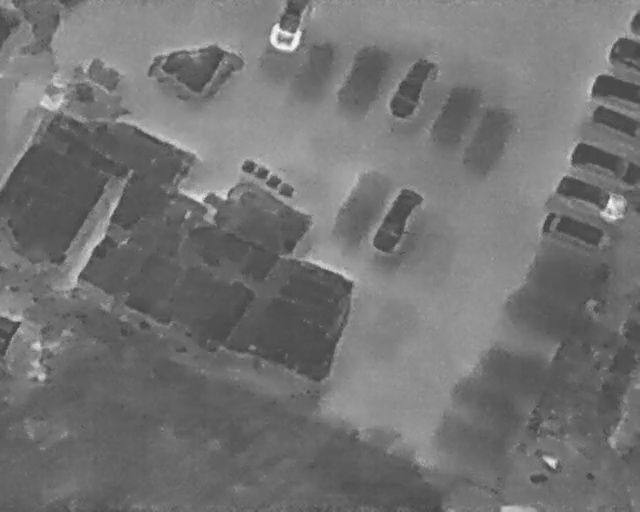Car: (551, 171, 631, 226), (383, 51, 441, 124), (369, 183, 424, 257), (538, 205, 614, 256), (572, 141, 640, 186), (268, 0, 313, 51), (589, 72, 640, 109), (608, 37, 640, 70), (629, 10, 640, 35)
